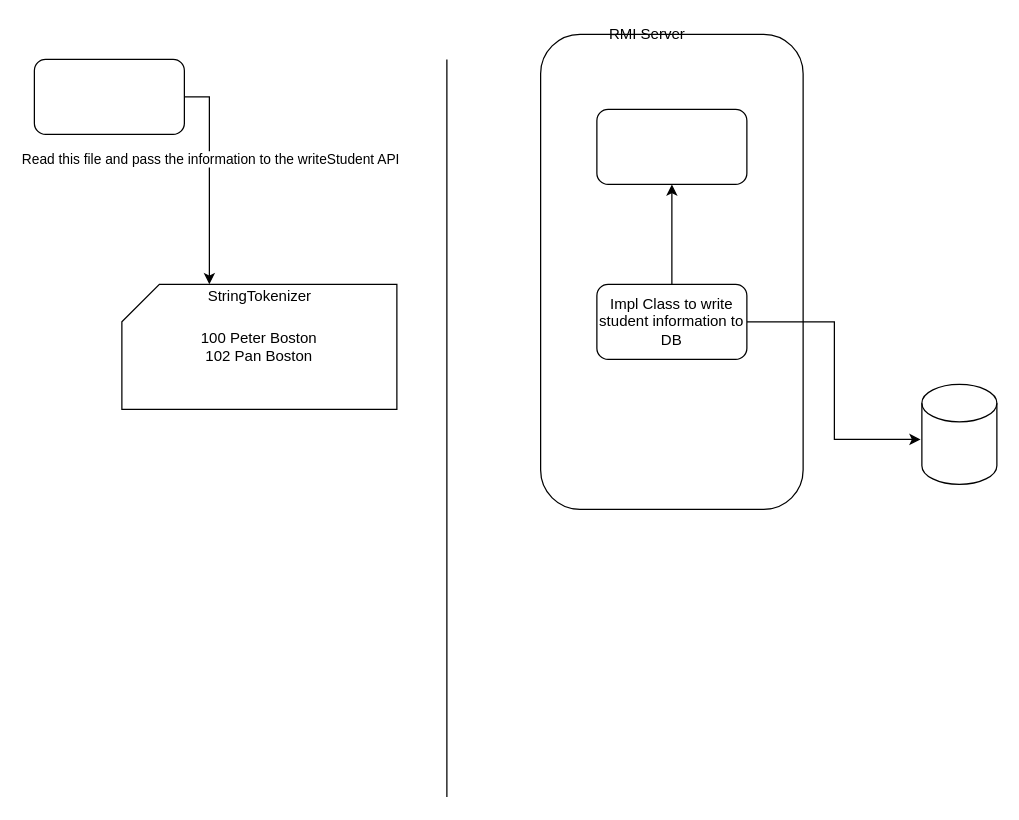
This 1019x820 diagram has some shape labels left out. Here are the shapes that lost their labels. From the top down, the centre of each, then its label:
(x=671, y=146): Interface IStudent writeStudent(List<Student>)
(x=959, y=433): Student name rollno address1
